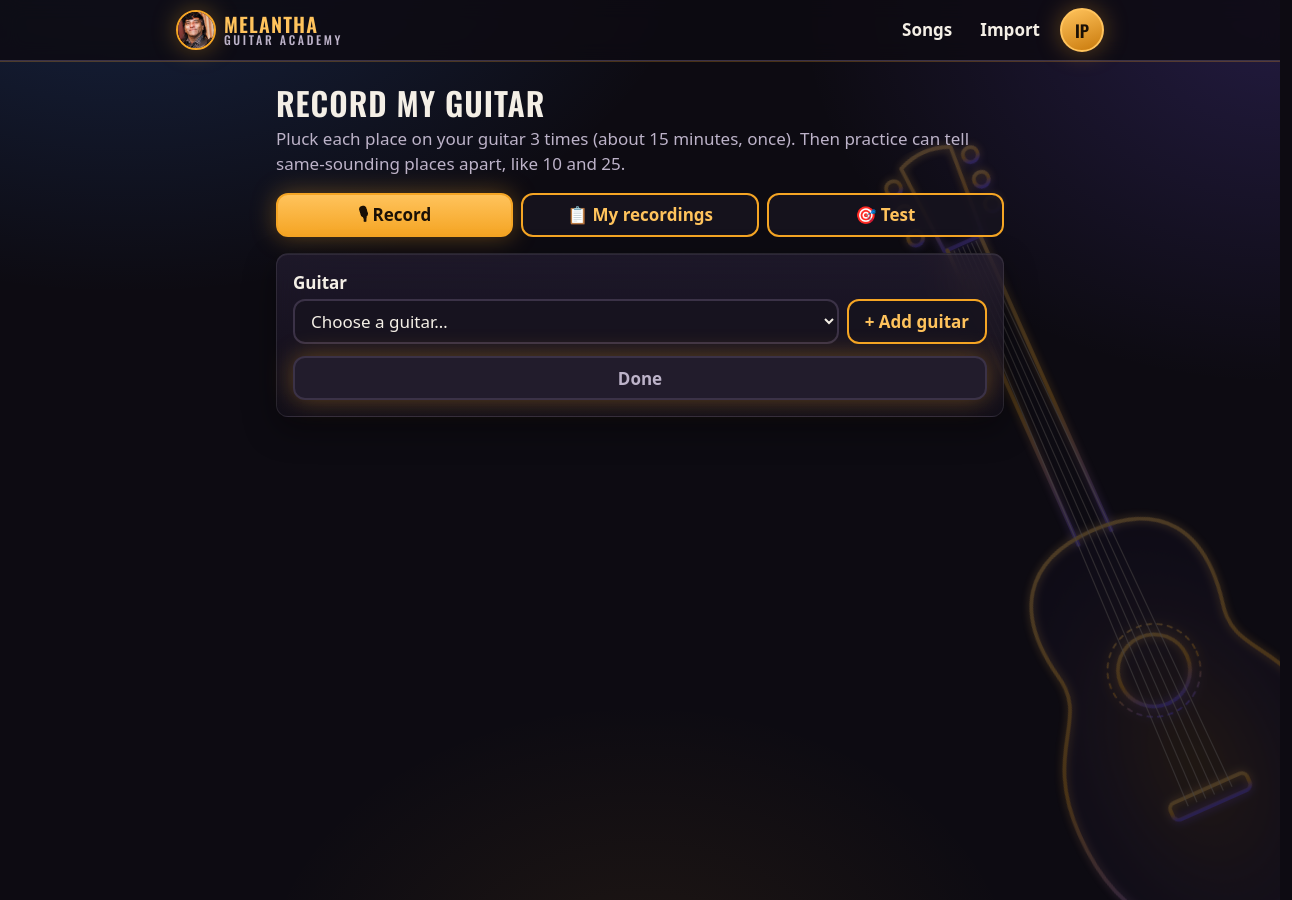
it: test my guitar (record my guitar page) › every note up to fret 7 can be tested, also one with a single place (E2: string 6, open)
The image size is (1292, 900).
Click the button "🎯 Test".
click(885, 215)  # box [767,193,1004,237]
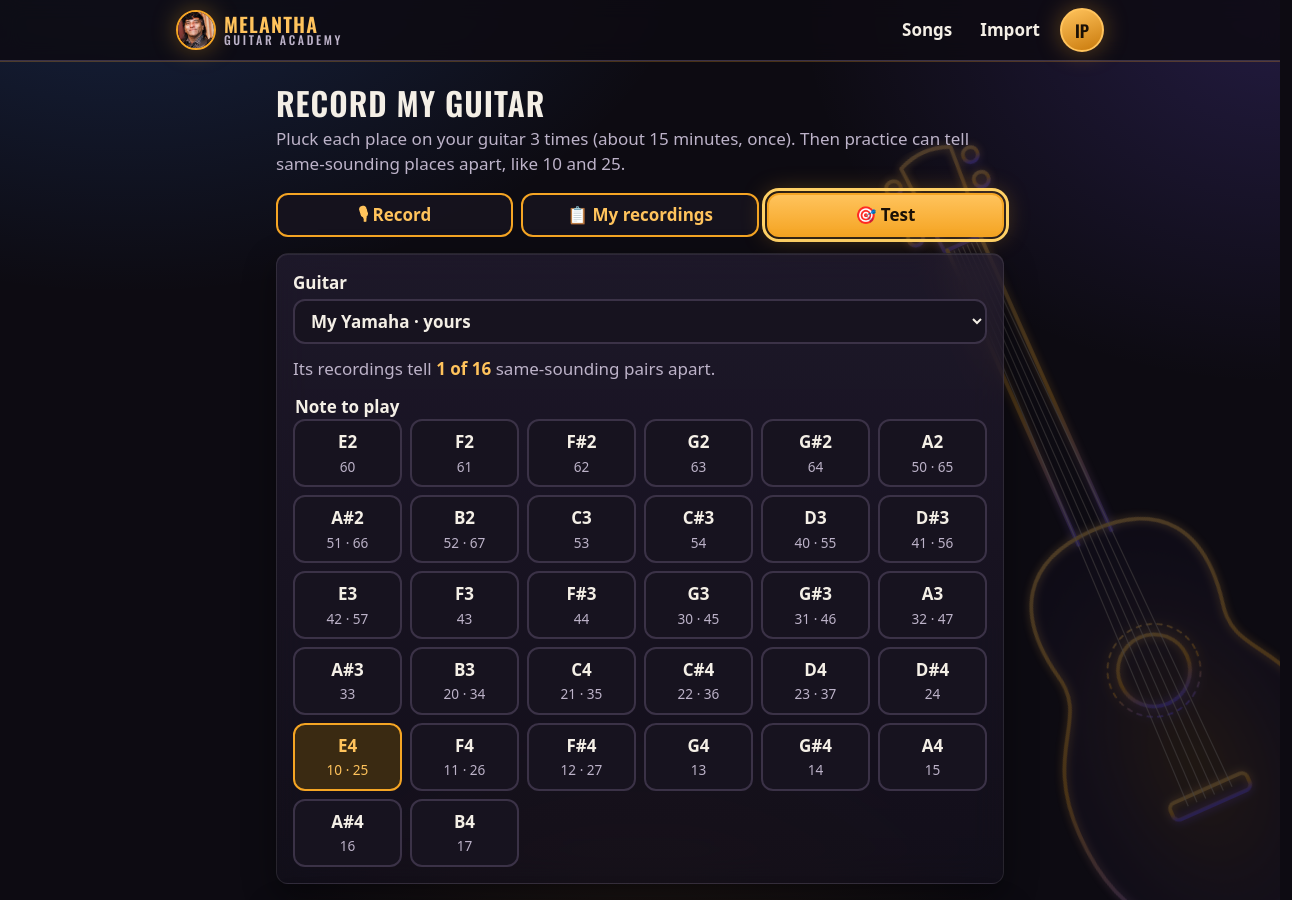
Expected: the button "E2 60" is shown
Expected: the button "B4 17" is shown, [410,799,519,867]
Click the button "E2 60".
click(348, 453)  # box [293,419,402,487]
(page scrolled)
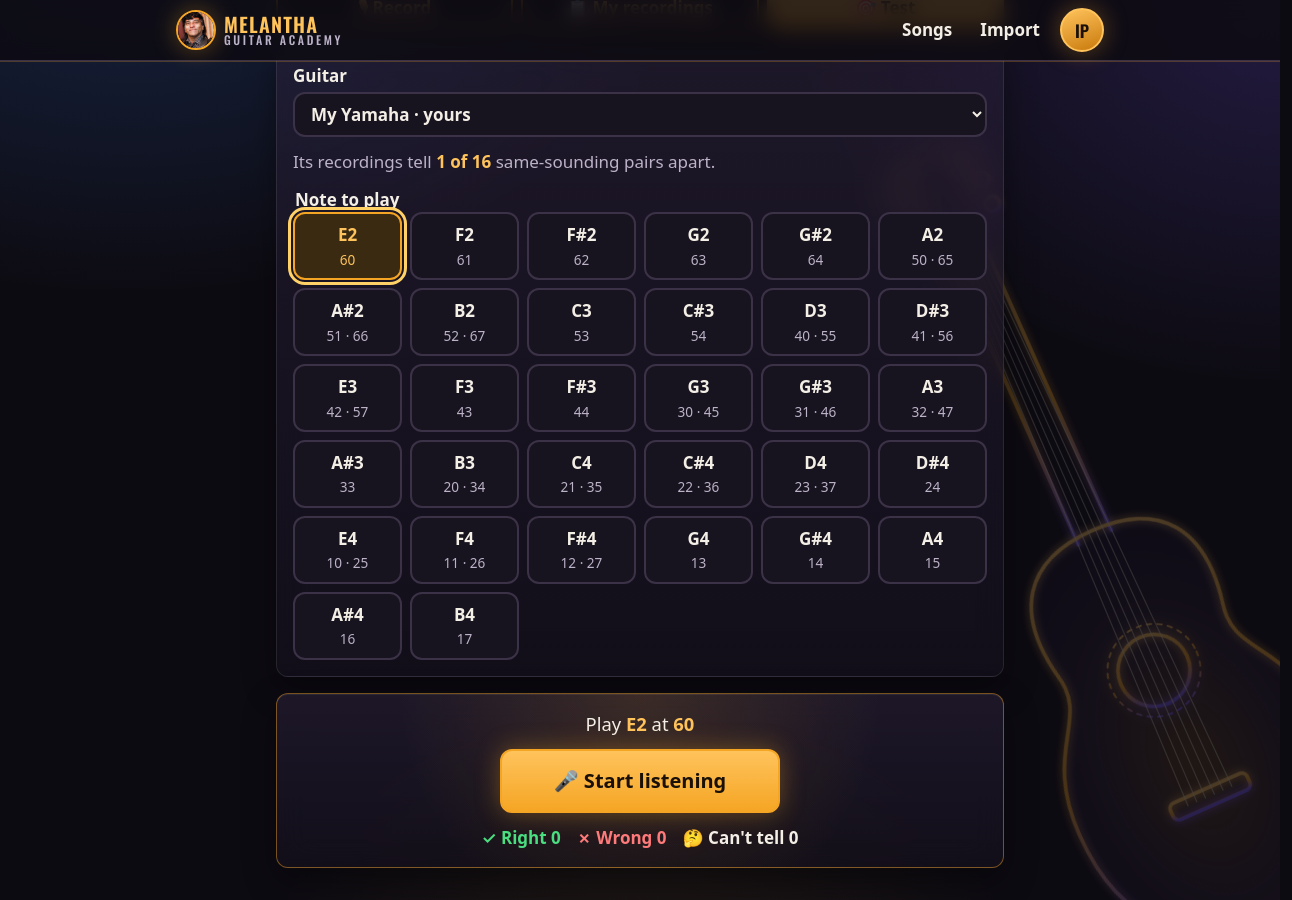
Expected: the element with test id "test-pairs" is shown, [293,150,715,173]
Expected: the text "Play E2 at 60" is shown, [586,710,694,737]
Click the button "🎤 Start listening".
click(640, 781)  # box [500,749,780,813]
(page scrolled)
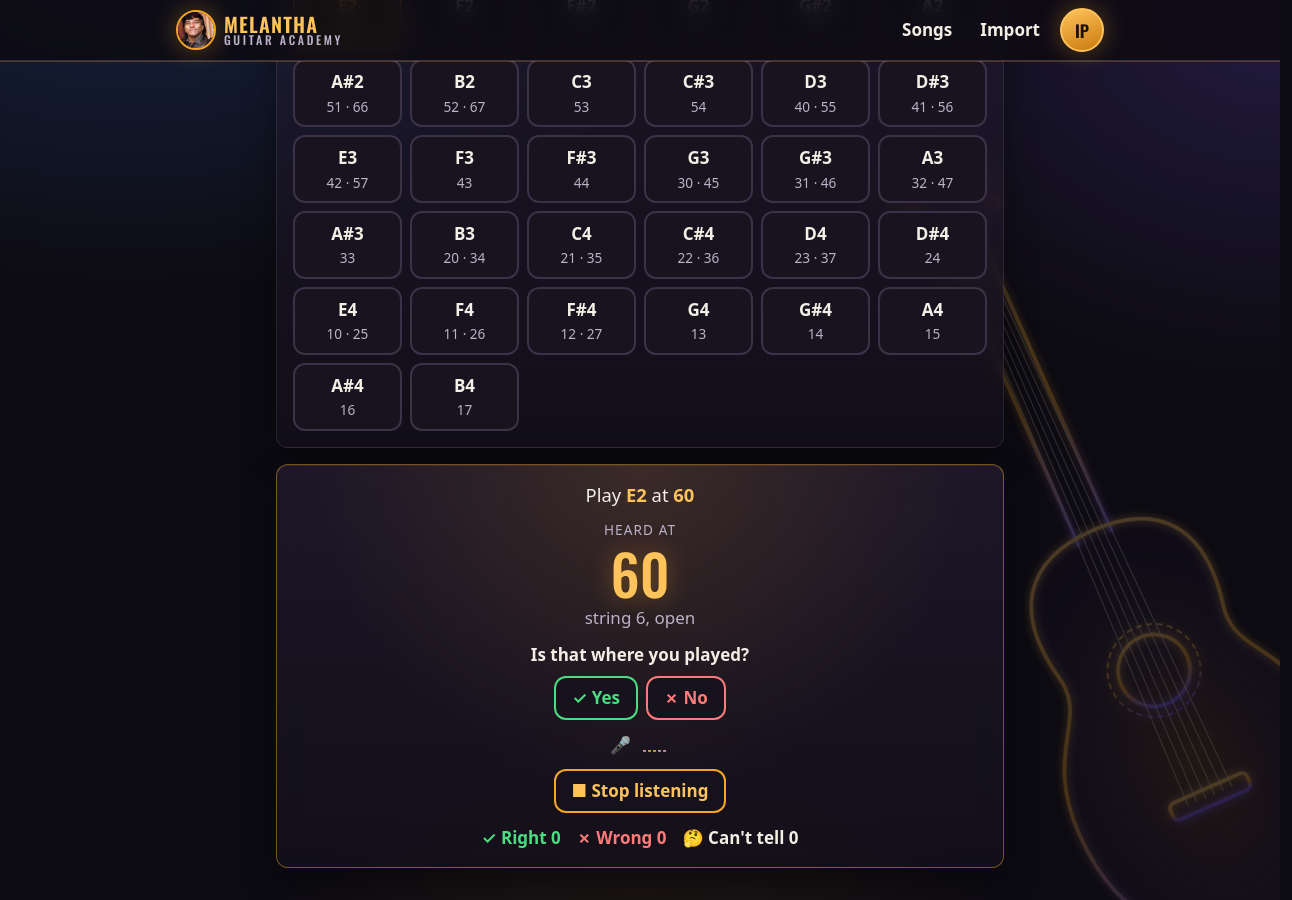
Click the button "✗ No".
click(686, 698)  # box [646,676,726,720]
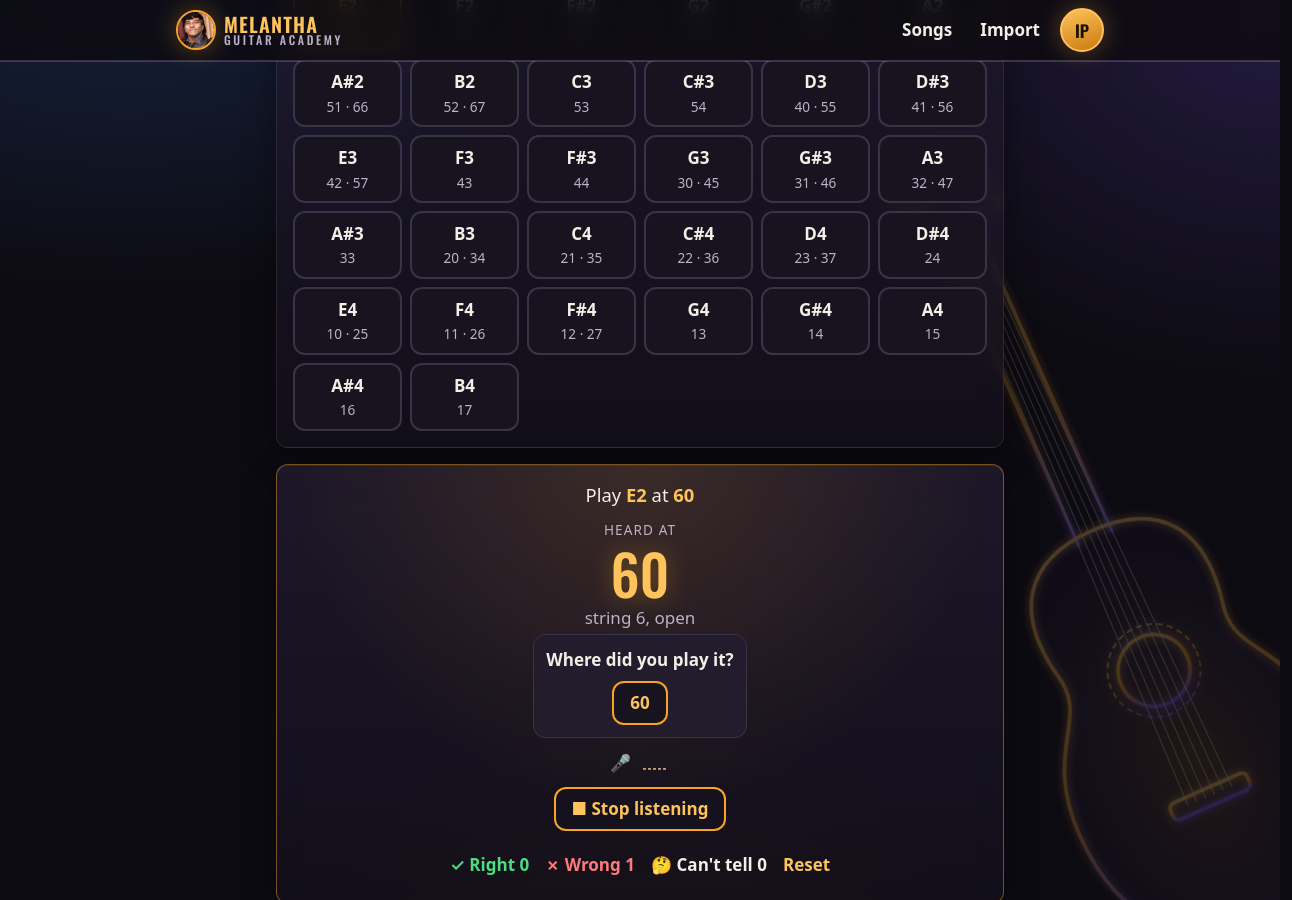
Click the button "60".
click(640, 703)  # box [612,681,668,725]
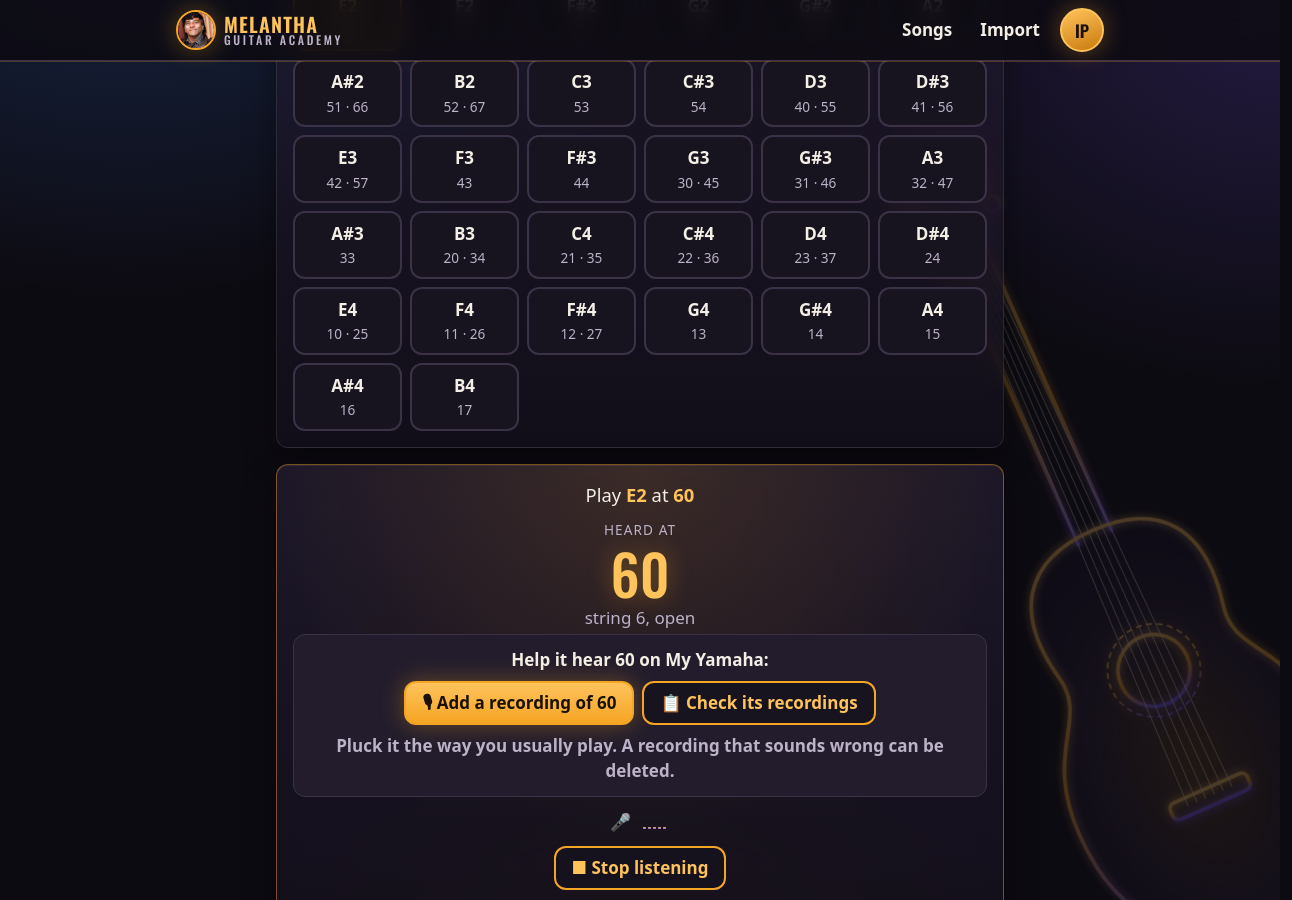
Expected: the button "🎙 Add a recording of 60" is shown, [404,681,634,725]
